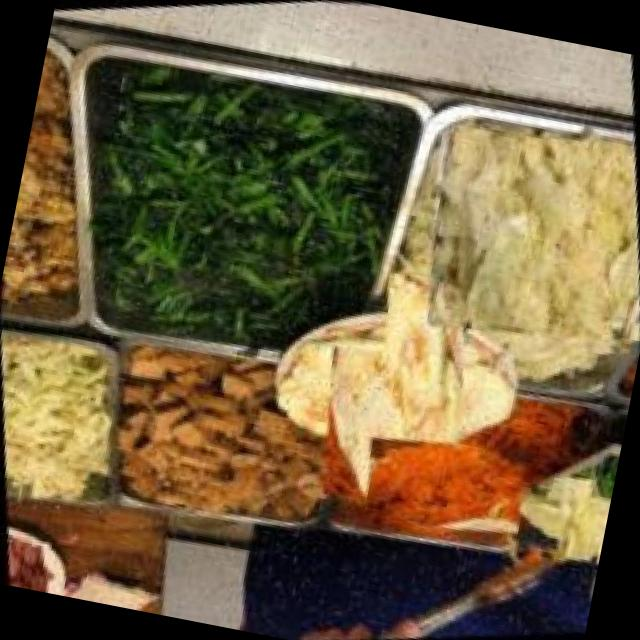carrot_eggs: (342, 398, 548, 568)
chinese_cabbage: (382, 79, 640, 391), (532, 468, 614, 560)
chinese_sausage: (0, 521, 62, 593)
fried_eggs: (258, 248, 534, 524)
water_spinach: (35, 0, 466, 416), (579, 444, 621, 498)
